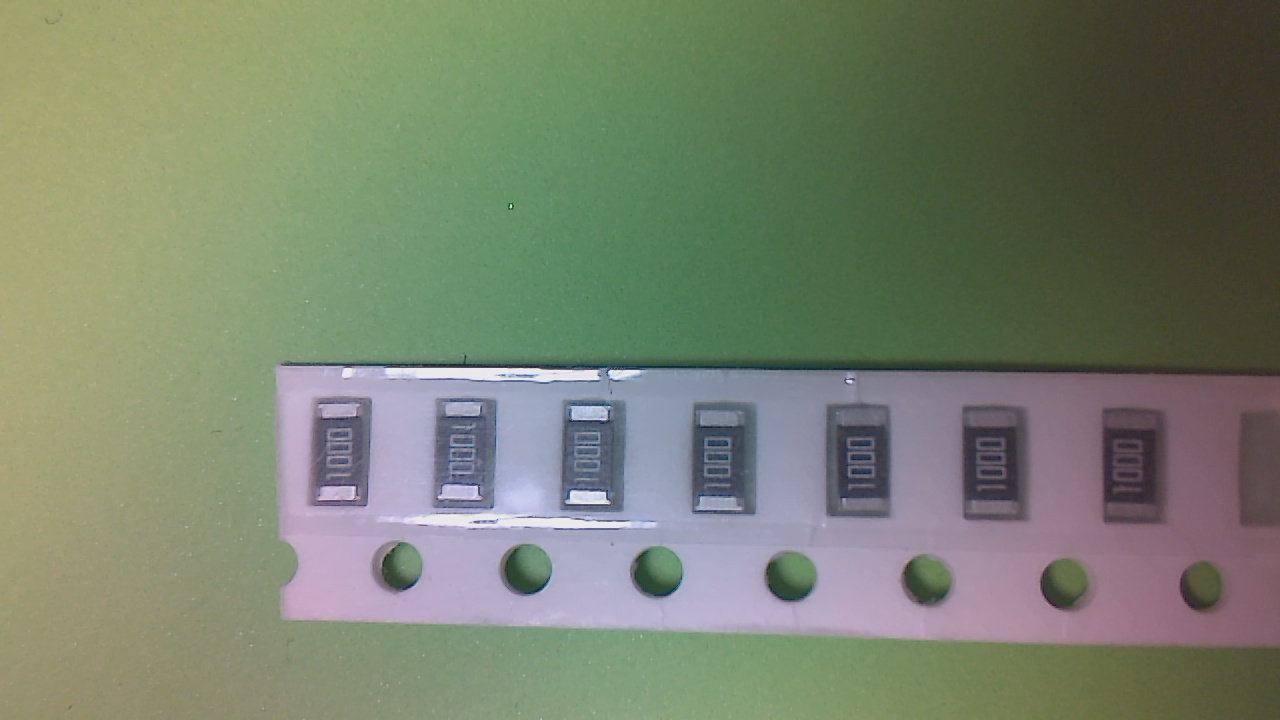Resistor: (1108, 416, 1167, 533), (835, 412, 898, 521), (968, 413, 1029, 520), (697, 410, 759, 514), (569, 405, 630, 510), (440, 404, 499, 509), (320, 406, 372, 511)
